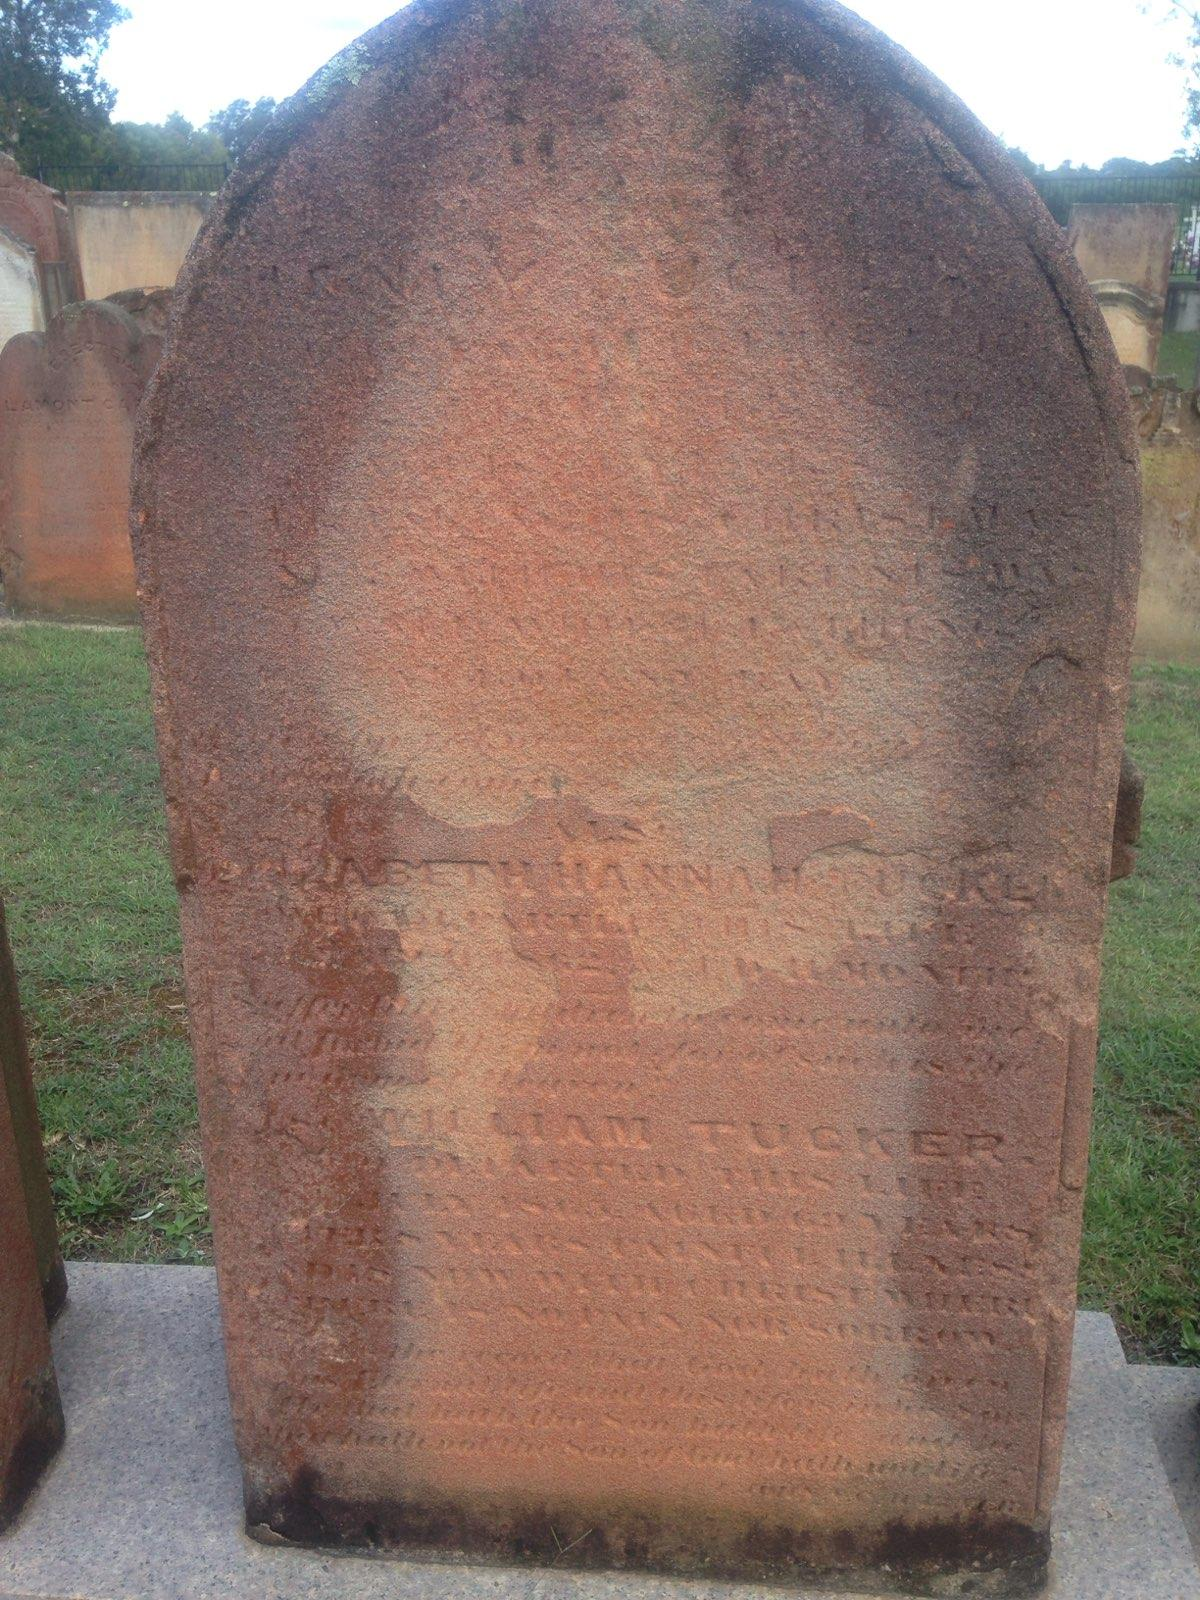upright: (141, 0, 1094, 1550)
